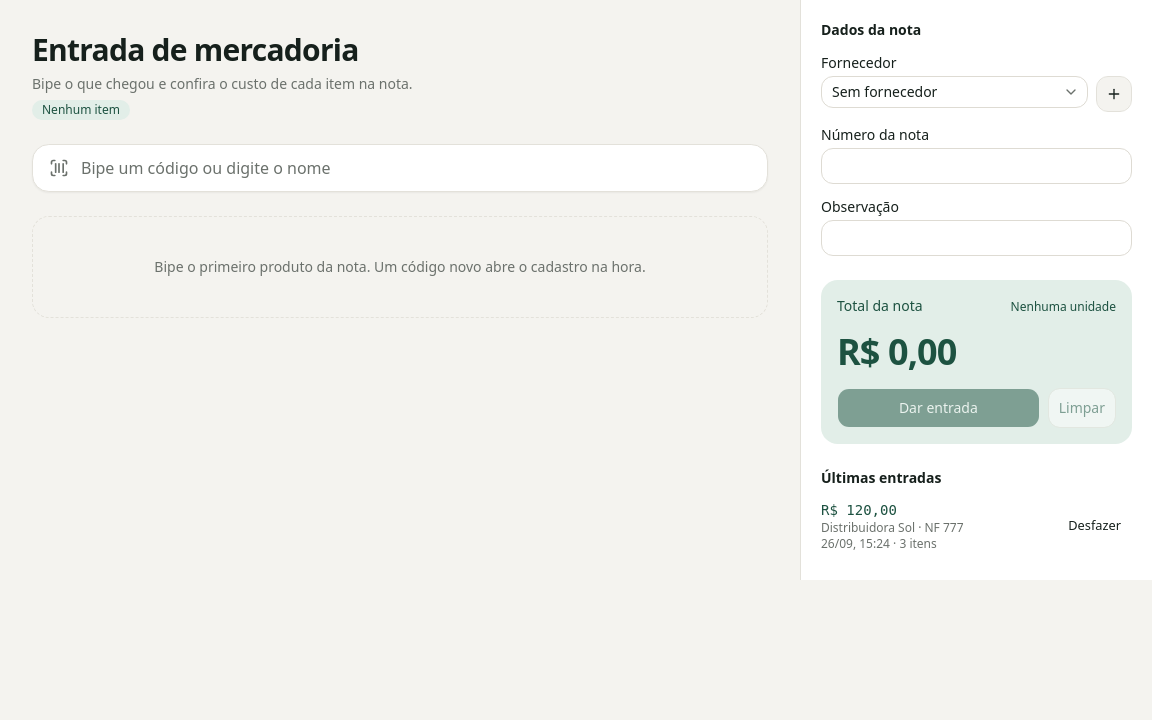
ReceivingScreen › undoes a recent entry
Click the button "Desfazer": {"x": 1095, "y": 526} 1057,512 -> 1132,540
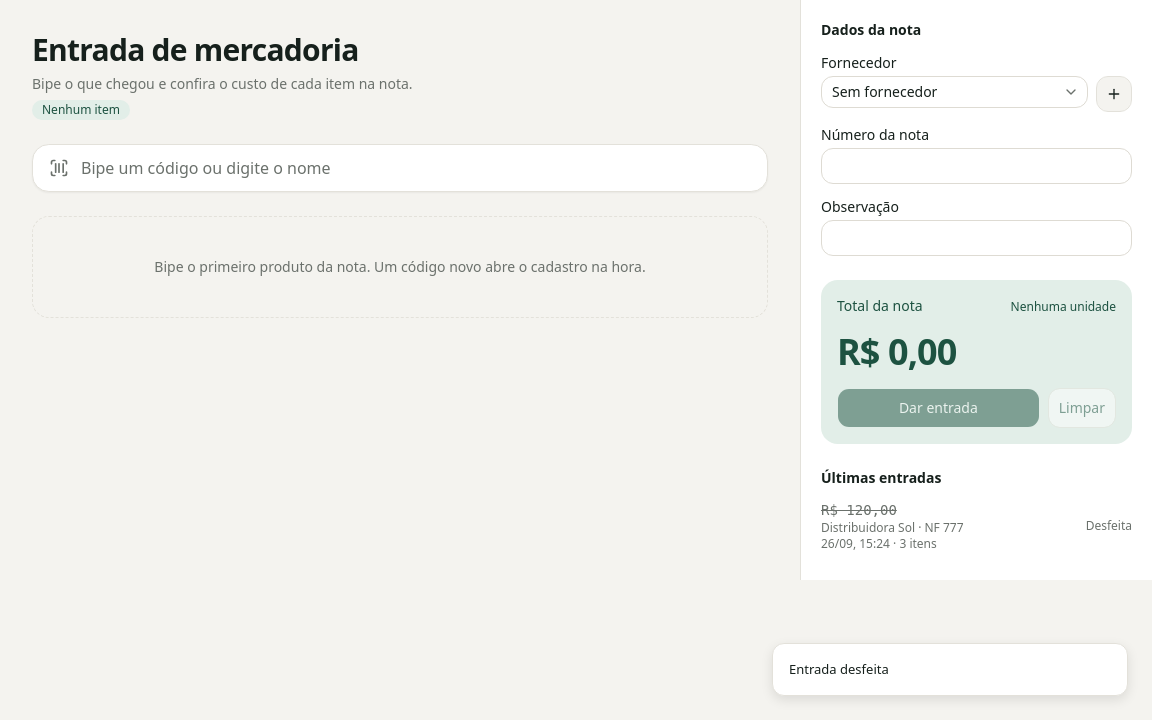
Now the text "Desfeita" is shown, box 1086,518 -> 1132,534
